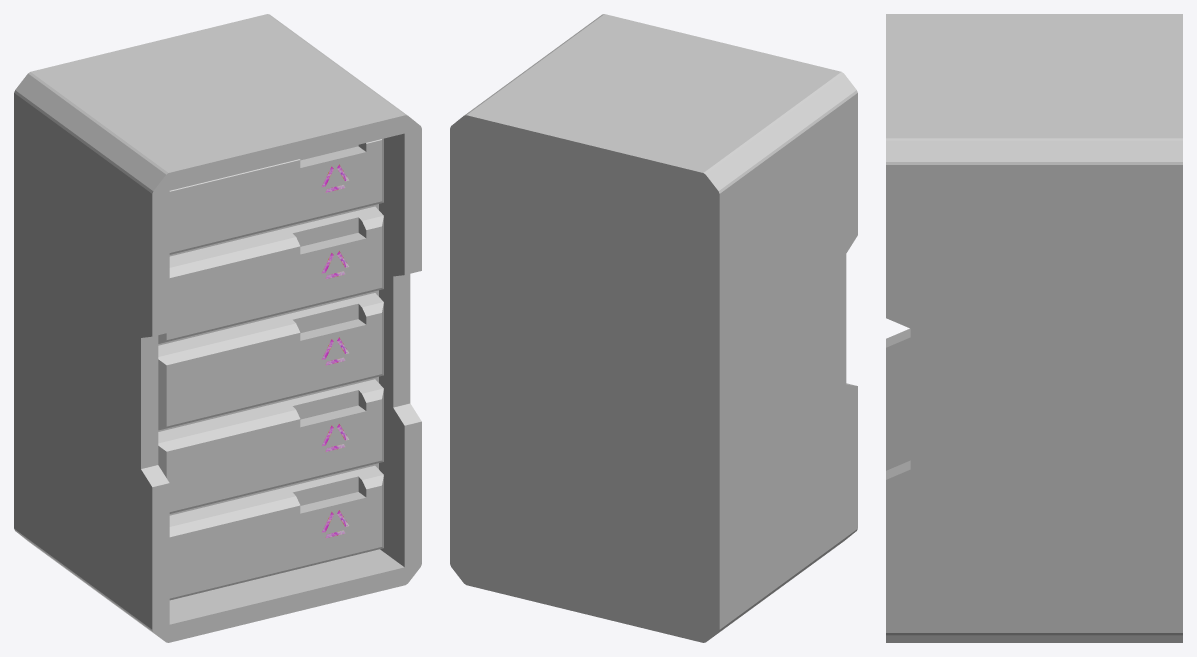
File: locker_03.fbx
3 views of the same model, side by side, from view 1: azimuth 30°, elevation 25°; view 2: azimuth 150°, elevation 25°; view 3: azimuth 270°, elevation 25° (orthographic). The views are drawn at different scales.
Parts seen in each view (by area): view 1: Cube.219, Cube.222, Cube.223; view 2: Cube.219; view 3: Cube.219.
Part boxes in pixels (x1,y1,x2,y2): Cube.219: (14, 14, 421, 642); Cube.222: (158, 138, 383, 600); Cube.223: (321, 164, 349, 538); Cube.219: (450, 14, 857, 642); Cube.219: (886, 14, 1182, 642).
Bounding box in the file's own units: 0.75 × 1.25 × 0.6667.
